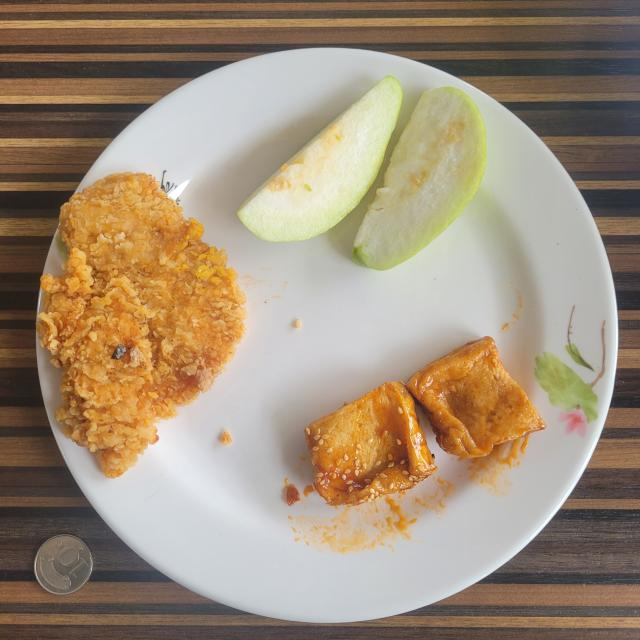coin: (34, 535, 92, 595)
creamy tofu: (305, 336, 545, 506)
fried chicken cutlet: (38, 172, 246, 478)
guava -sliced-: (238, 76, 486, 270)
